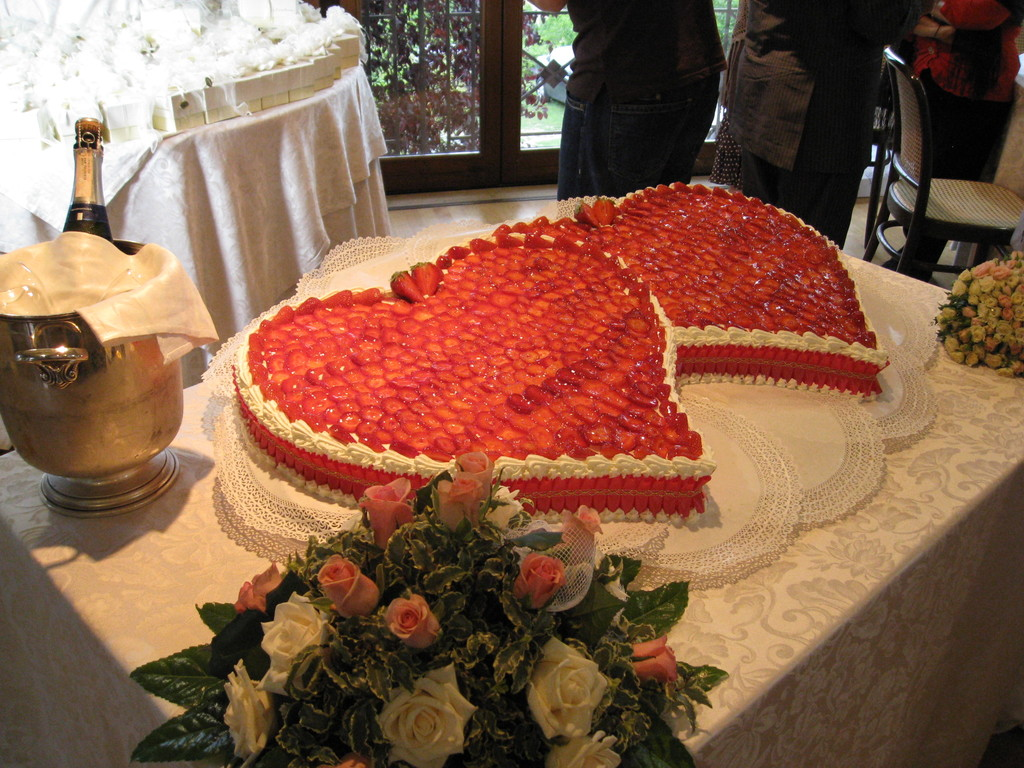cake: (228, 177, 891, 532)
